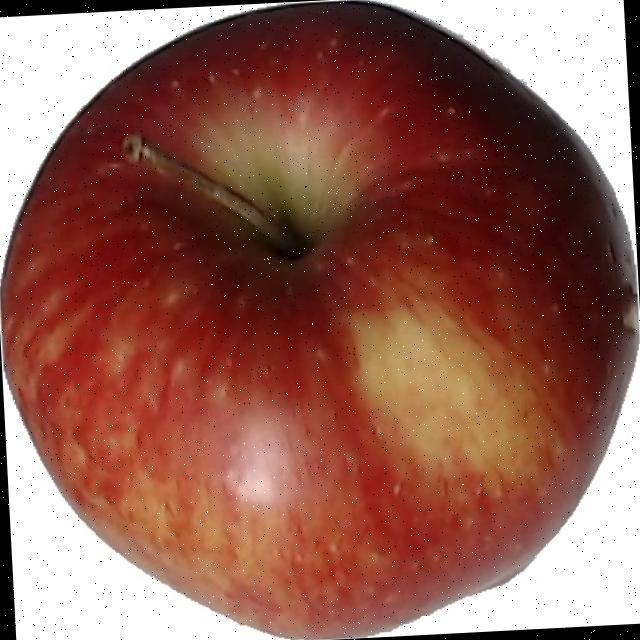apple: (2, 0, 640, 640)
